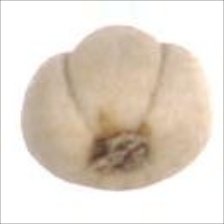L5: (61, 23, 171, 136), (82, 125, 160, 178)
L6: (18, 23, 214, 194)
